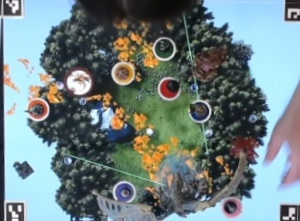blue: (186, 96, 212, 124)
green: (151, 35, 176, 62)
orange: (22, 94, 54, 122)
pink: (219, 194, 244, 217)
red: (156, 73, 183, 102)
violet: (110, 177, 137, 203)
yellow: (108, 59, 136, 86)
